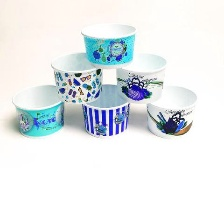paper_cup: (7, 79, 68, 141), (77, 79, 134, 142), (141, 81, 200, 141), (46, 48, 107, 105), (75, 18, 140, 70), (112, 48, 169, 105)
